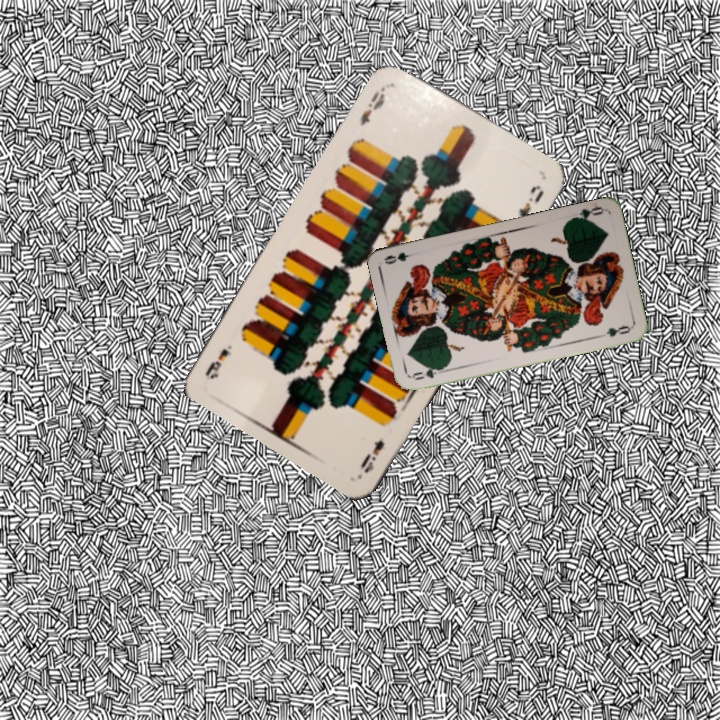E9: (356, 82, 388, 129), (356, 435, 387, 477)
GO: (566, 202, 606, 224), (408, 363, 448, 383)
